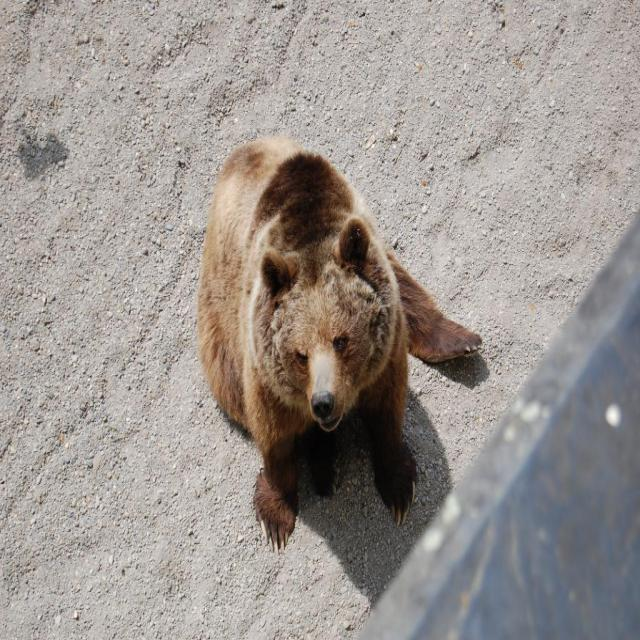Cheetahs: (198, 132, 482, 559)
